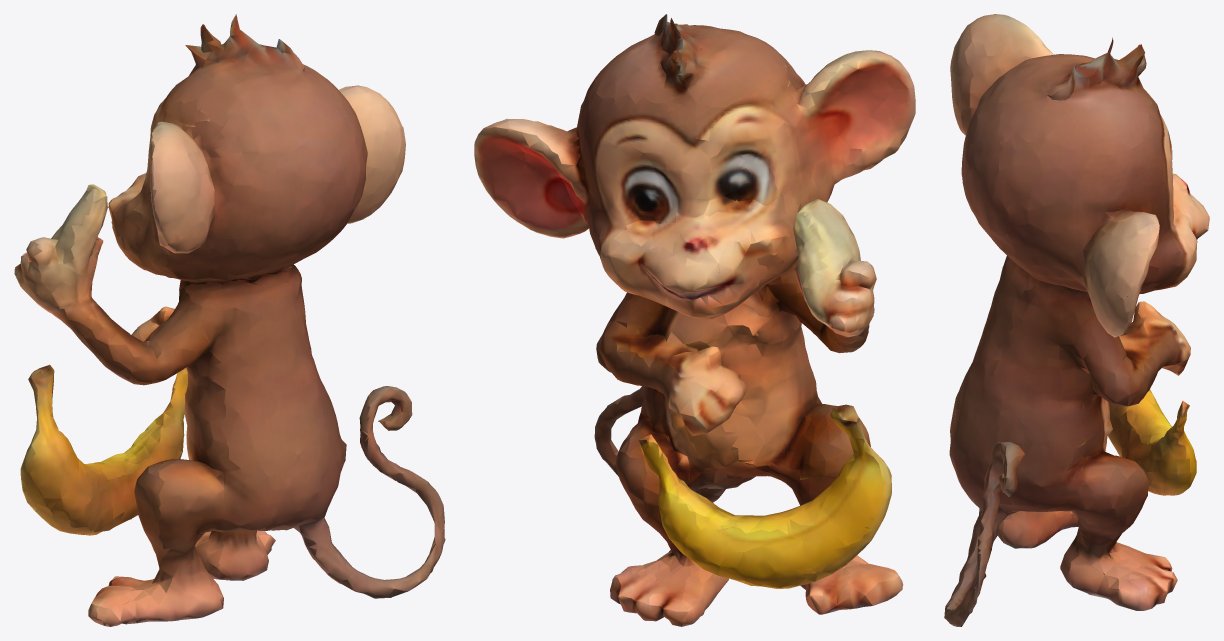
Rendered from monkey holding a banana.glb.
3 renders of one model, left to right at view 1: azimuth 30°, elevation 25°; view 2: azimuth 150°, elevation 25°; view 3: azimuth 270°, elevation 25°, orthographic. The views are drawn at different scales.
Visible parts, largest first — view 1: world; view 2: world; view 3: world.
Boxes of the visible parts, box(x1,y1,x2,y2) form: world: box(14, 14, 445, 626); world: box(474, 14, 915, 626); world: box(944, 14, 1209, 626).
Bounding box in the file's own units: 0.6536 × 0.8947 × 0.3853.
1 material, 1 textured.
